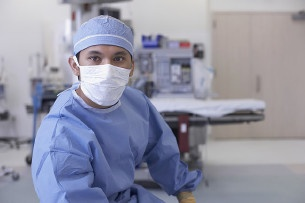Mask: (79, 47, 133, 101)
